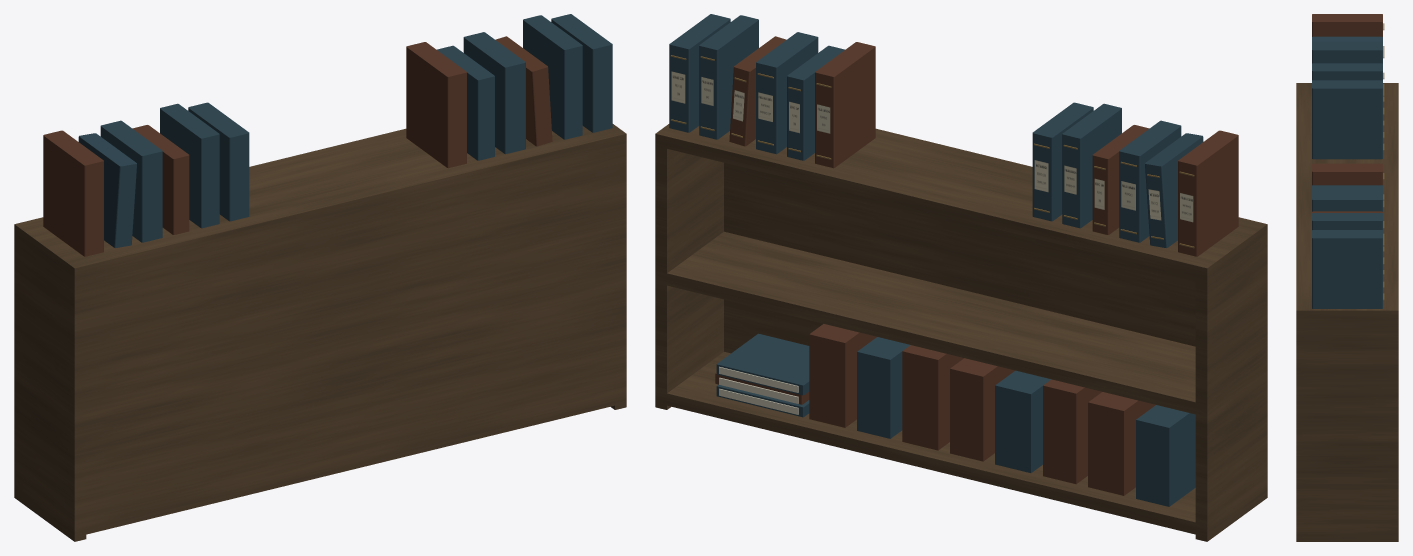
Rendered from SM_ArchiveProps_Bookcase.fbx.
3 views of the same model, side by side, from view 1: azimuth 30°, elevation 25°; view 2: azimuth 150°, elevation 25°; view 3: azimuth 270°, elevation 25° (orthographic). The views are drawn at different scales.
Visible parts, largest first — view 1: SM_ArchiveProps_Bookcase; view 2: SM_ArchiveProps_Bookcase; view 3: SM_ArchiveProps_Bookcase.
Boxes of the visible parts, <box> form: SM_ArchiveProps_Bookcase: <box>14,14,626,541</box>; SM_ArchiveProps_Bookcase: <box>655,14,1267,541</box>; SM_ArchiveProps_Bookcase: <box>1296,14,1398,541</box>.
Size of the model in its own units: 1.9 by 0.36 by 1.2.
